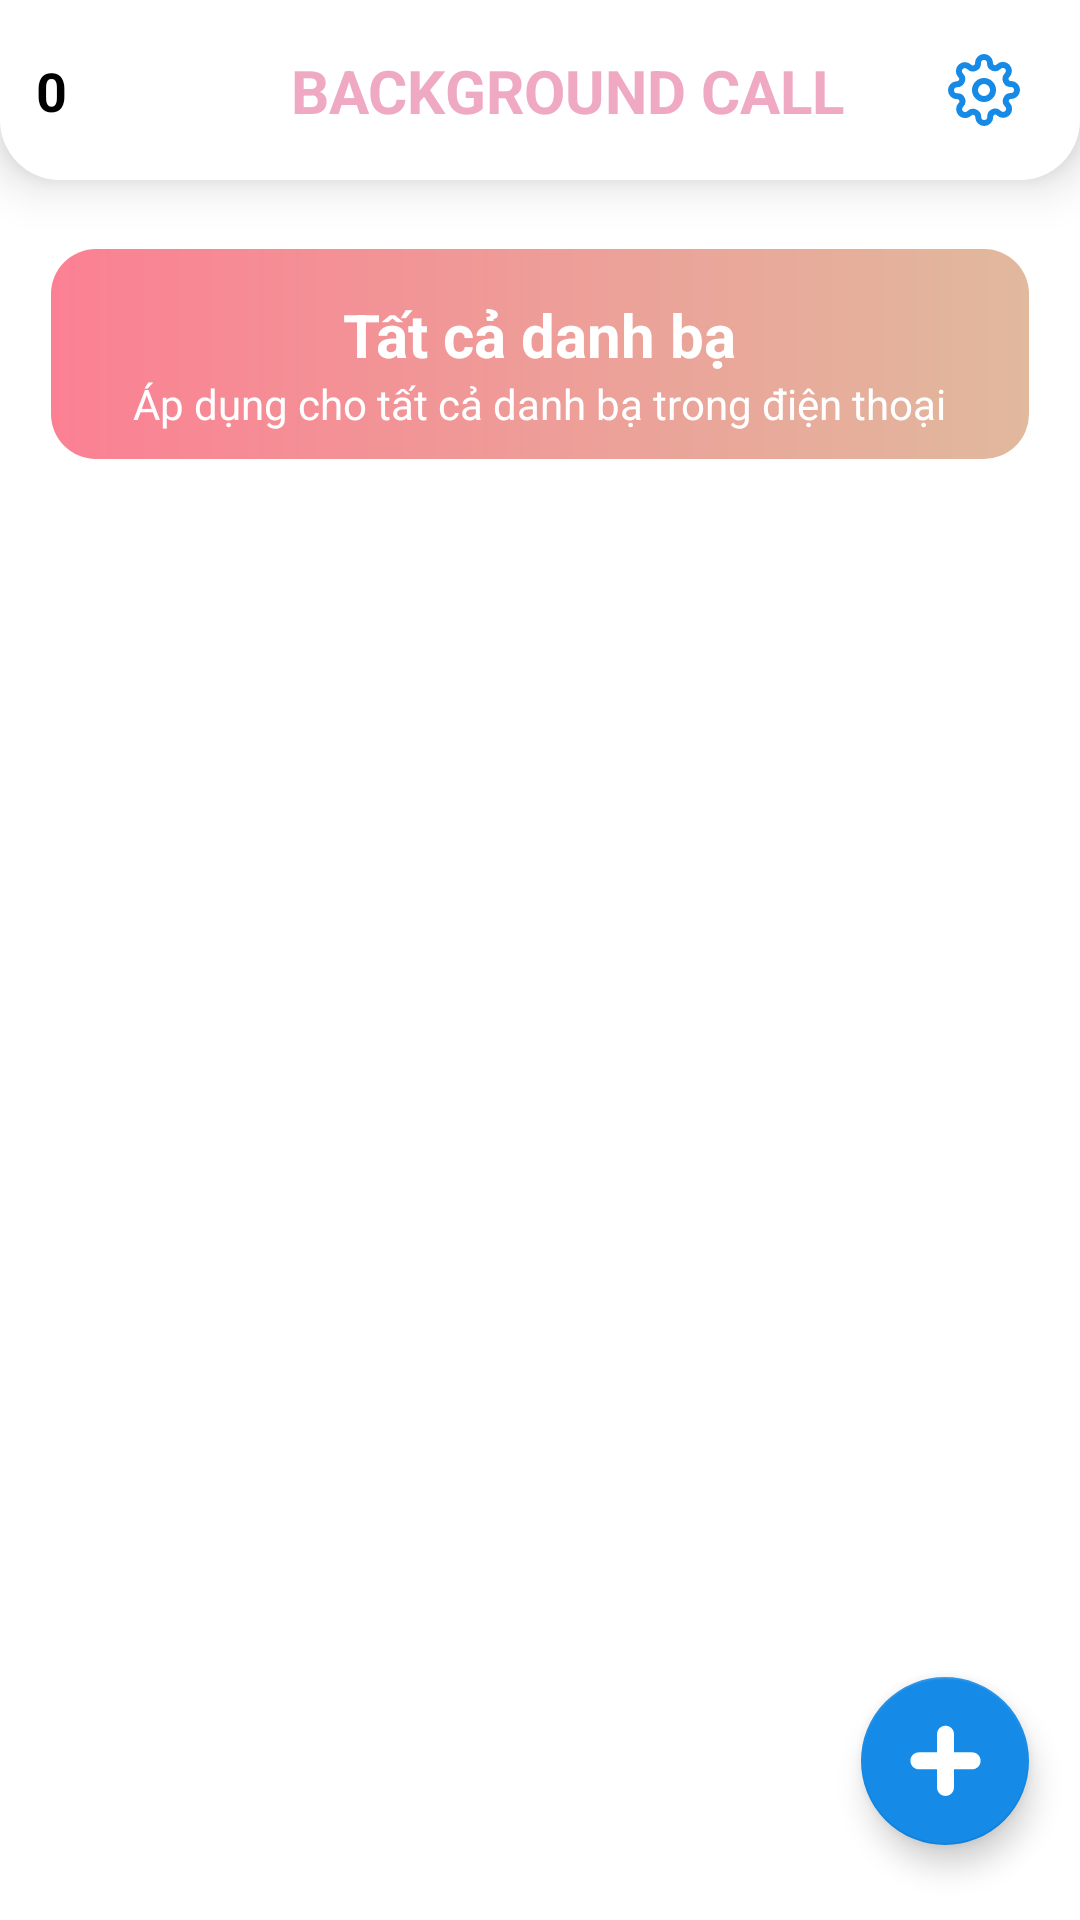

Icons on this 1080px x 1920px Android screen, each with the point to tap as point (x, y):
settings: point (984, 90)
union plus: point (945, 1761)
